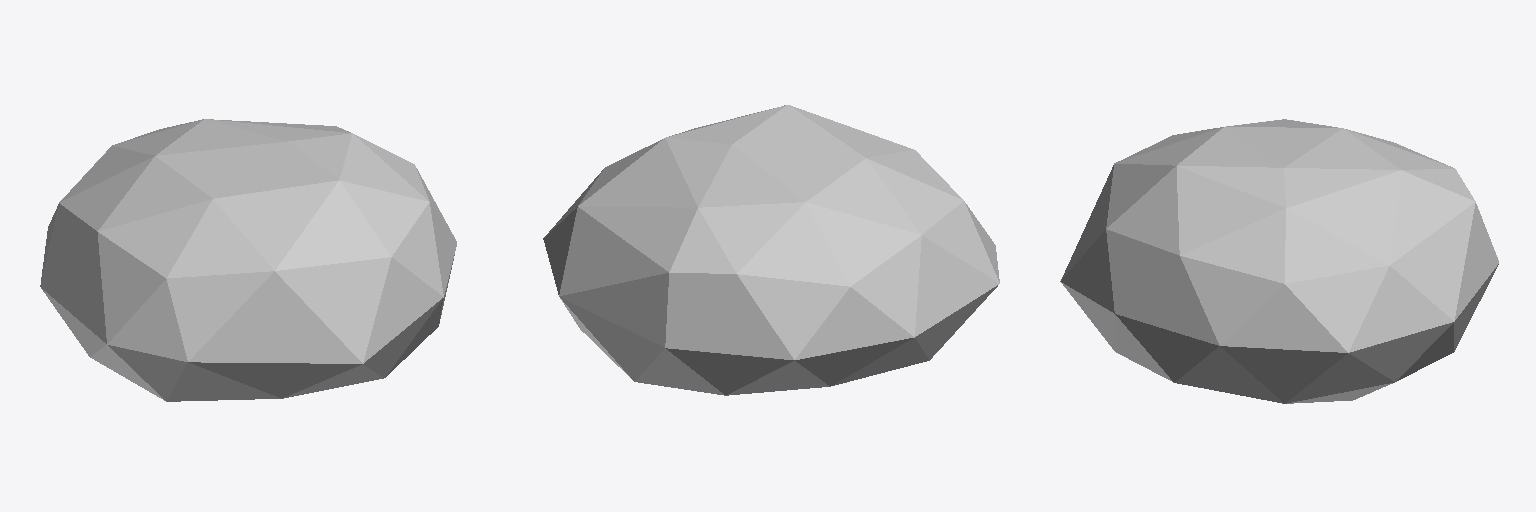
The model's file is rock1_w_rock_texture.obj.
The picture shows the model from 3 angles: view 1: azimuth 30°, elevation 25°; view 2: azimuth 150°, elevation 25°; view 3: azimuth 270°, elevation 25°; orthographic projection.
Visible parts, largest first — view 1: rock1; view 2: rock1; view 3: rock1.
Boxes of the visible parts, <box> form: rock1: <box>40,119,456,401</box>; rock1: <box>543,105,999,395</box>; rock1: <box>1060,119,1498,403</box>.
Bounding box in the file's own units: 1.22 × 0.6469 × 1.22.